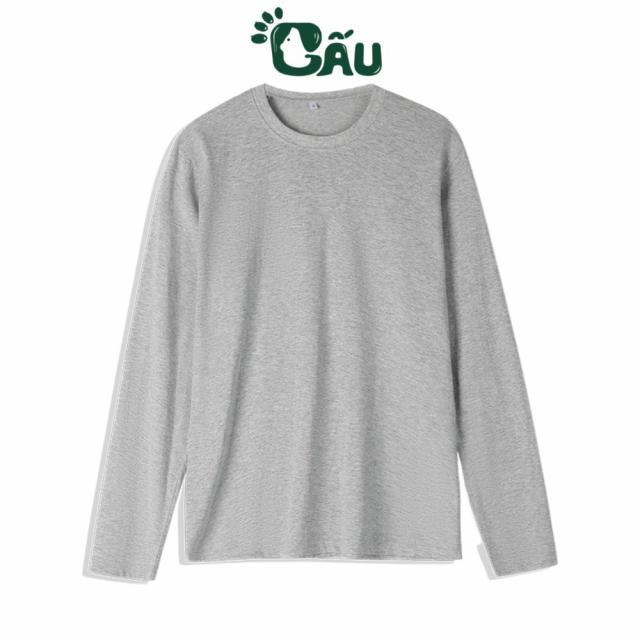Shirt: (80, 83, 561, 586)
